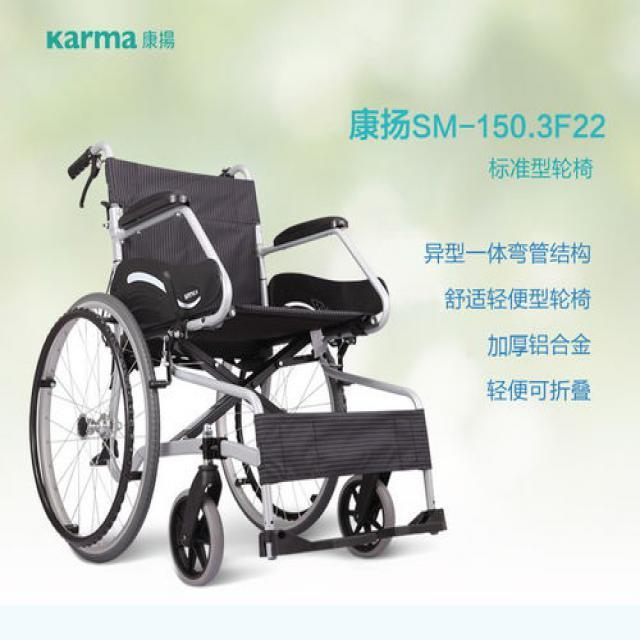wheelchair: (23, 140, 452, 590)
